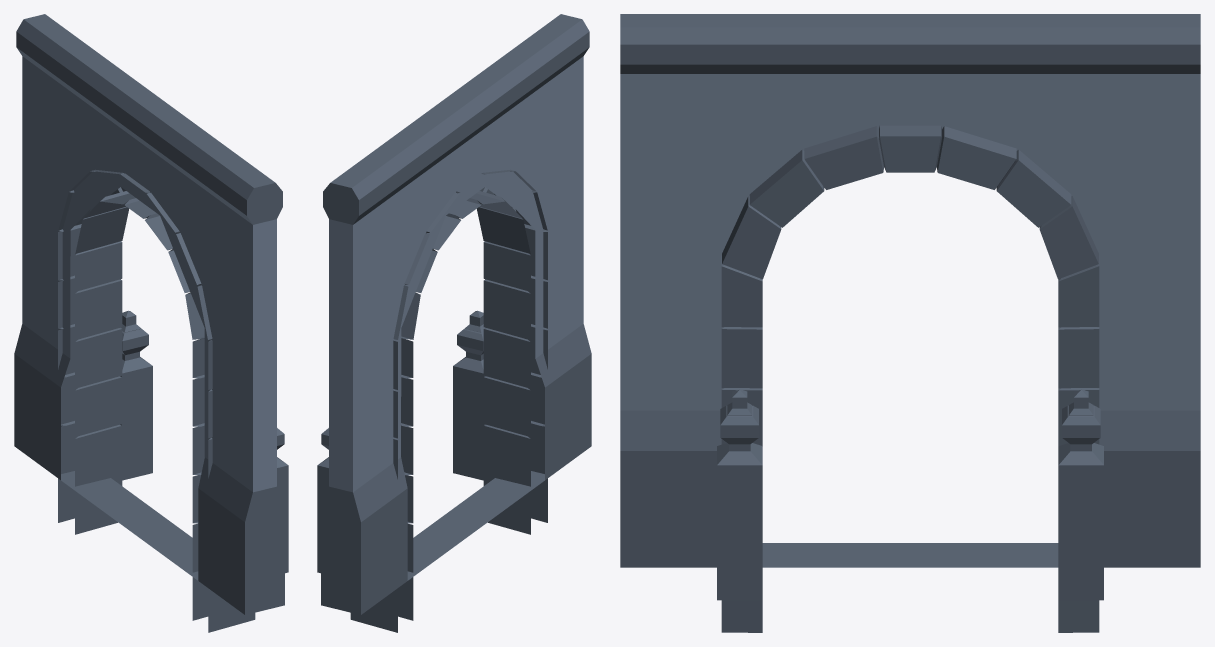
File: WallDoor01.fbx
3 views of the same model, side by side, from view 1: azimuth 30°, elevation 25°; view 2: azimuth 150°, elevation 25°; view 3: azimuth 270°, elevation 25° (orthographic). The views are drawn at different scales.
Visible parts, largest first — view 1: Cube.003; view 2: Cube.003; view 3: Cube.003.
Boxes of the visible parts, x1,y1,x2,y2 form: Cube.003: (14, 14, 288, 632); Cube.003: (317, 14, 591, 632); Cube.003: (620, 14, 1200, 632).
Bounding box in the file's own units: 164 × 905 × 800.
Materials: 1 (1 with a texture image).
